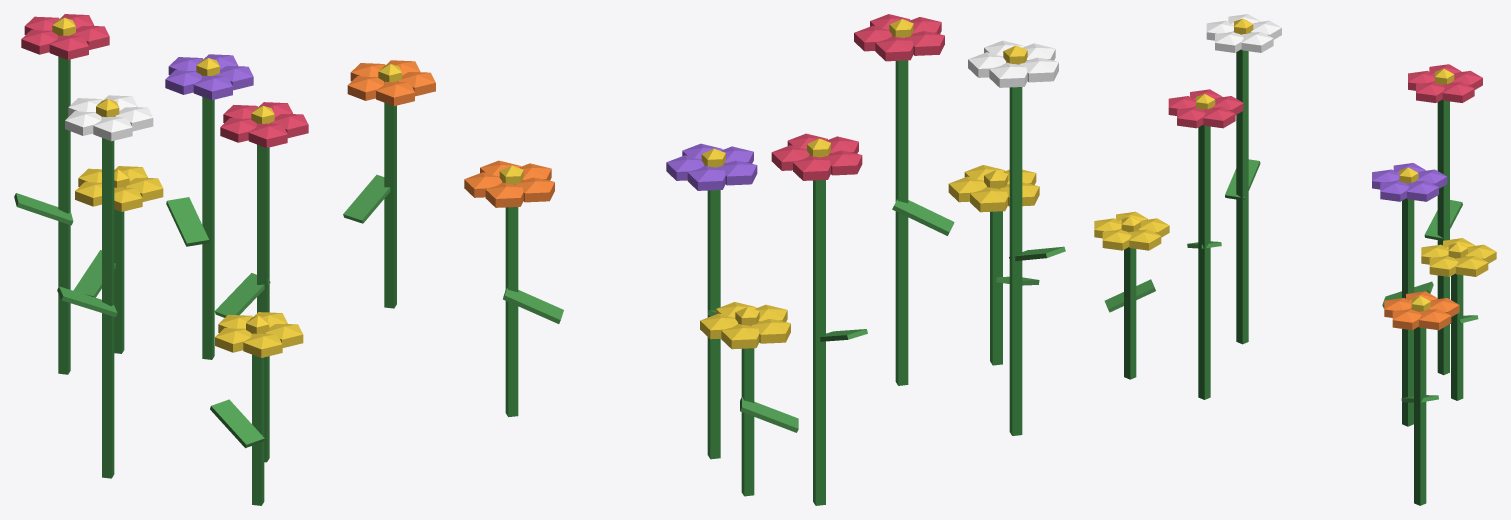
Rendered from flowers.fbx.
3 renders of one model, left to right at view 1: azimuth 30°, elevation 25°; view 2: azimuth 150°, elevation 25°; view 3: azimuth 270°, elevation 25°, orthographic. The views are drawn at different scales.
Parts seen in each view (by area): view 1: flowers; view 2: flowers; view 3: flowers.
Boxes of the visible parts, x1=… form: flowers: x1=14, y1=14, x2=435, y2=505; flowers: x1=464, y1=14, x2=1065, y2=505; flowers: x1=1094, y1=14, x2=1496, y2=505.
Bounding box in the file's own units: 1.81 × 1.39 × 1.57.
